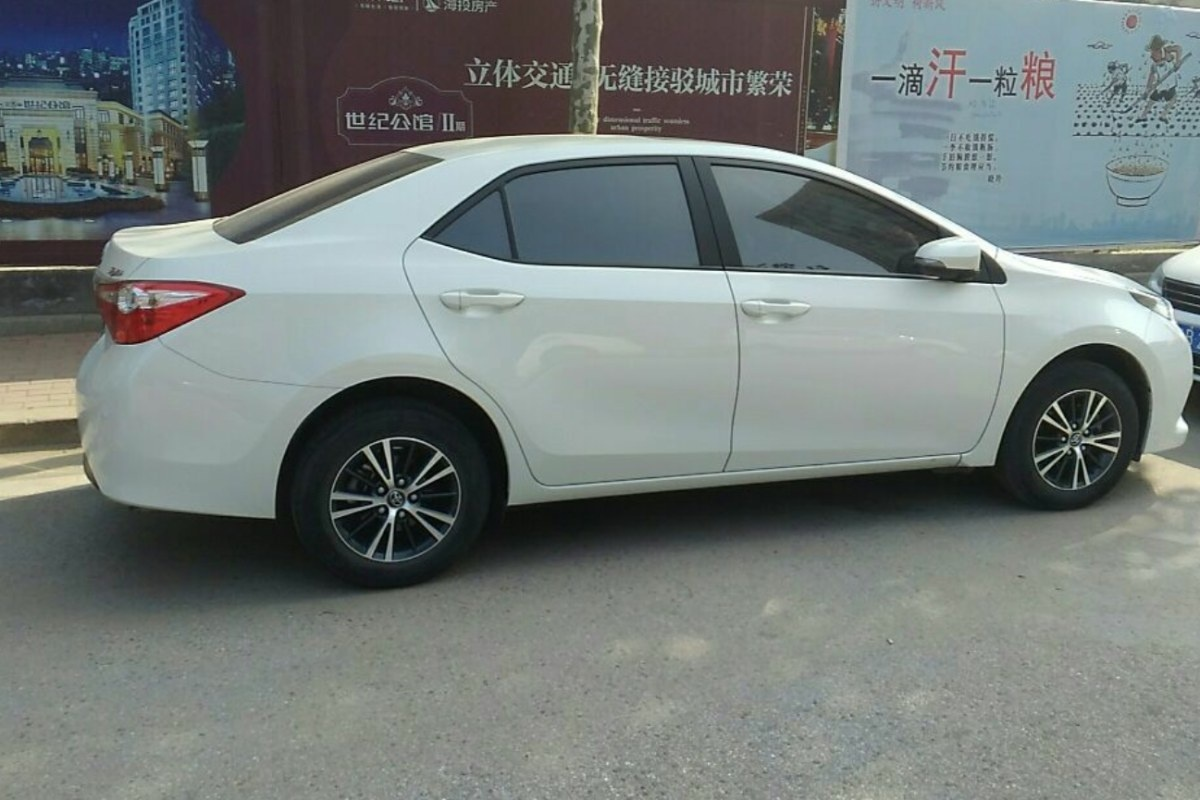family sedan: (95, 119, 1173, 597)
